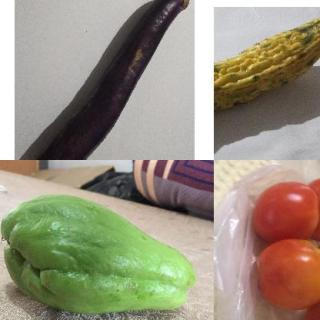Tomat: (237, 172, 320, 314)
